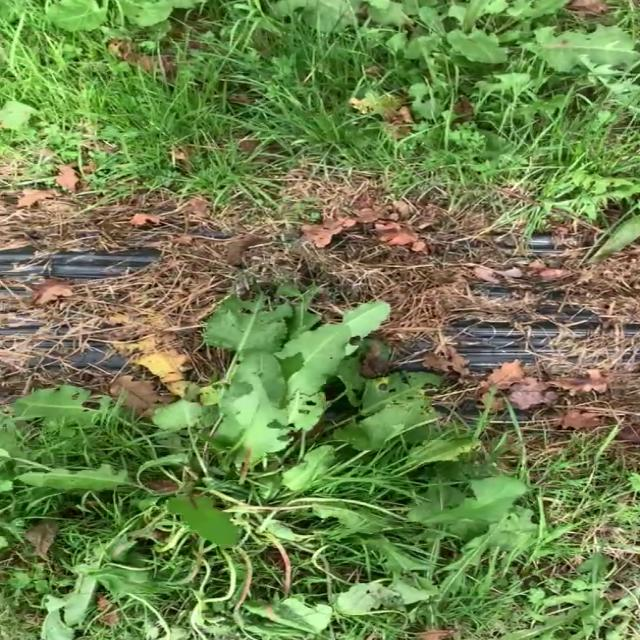organic waste: (0, 264, 529, 640), (260, 0, 640, 113), (0, 0, 237, 58)
